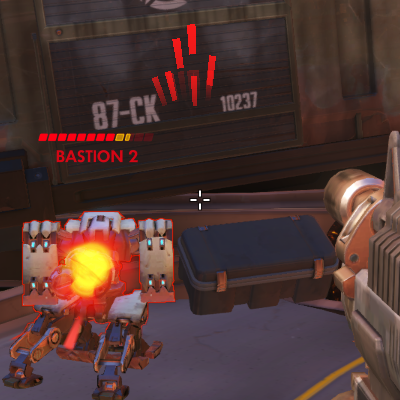hpbar: (38, 133, 154, 142)
